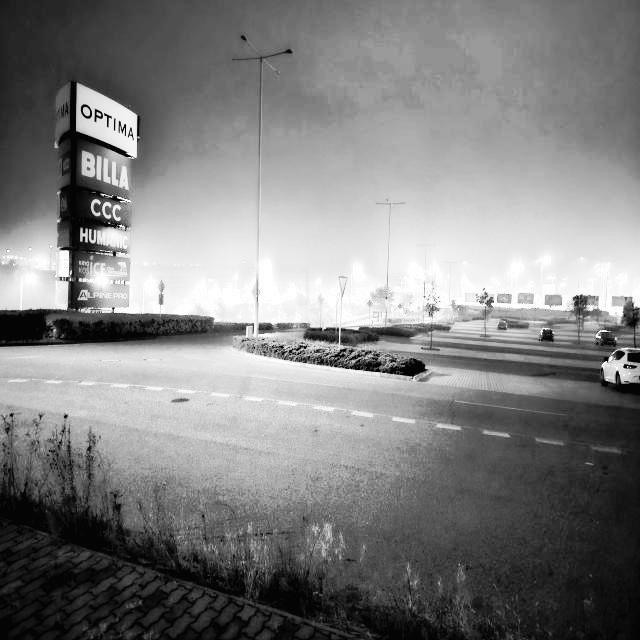Light: (16, 267, 39, 311), (506, 259, 529, 301), (594, 254, 610, 310), (535, 249, 552, 292), (347, 261, 359, 320), (139, 278, 156, 317), (197, 276, 217, 307)
